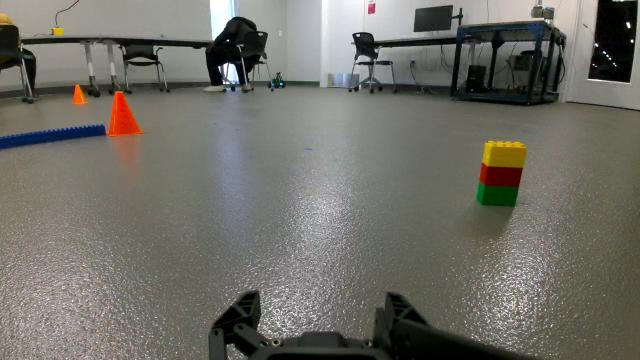lego: (468, 123, 536, 213)
